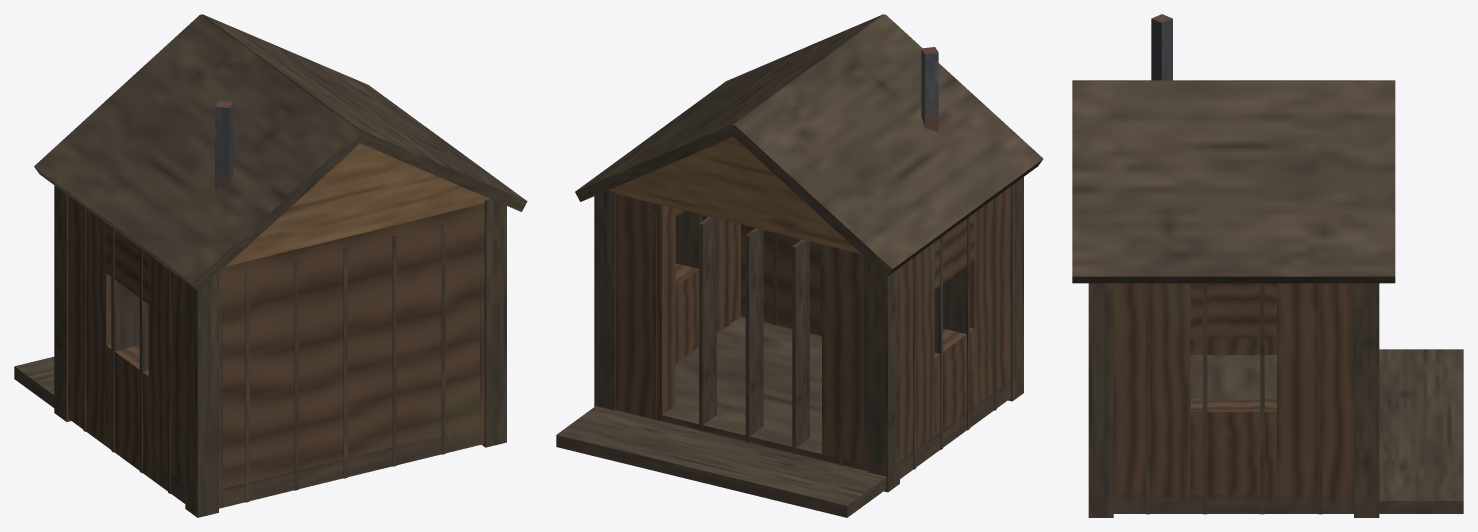
Rendered from SM_POI_SmallCabin_LOD1.fbx.
3 views of the same model, side by side, from view 1: azimuth 30°, elevation 25°; view 2: azimuth 150°, elevation 25°; view 3: azimuth 270°, elevation 25° (orthographic). The views are drawn at different scales.
Visible parts, largest first — view 1: SM_POI_SmallCabin_LOD1; view 2: SM_POI_SmallCabin_LOD1; view 3: SM_POI_SmallCabin_LOD1.
Boxes of the visible parts, x1,y1,x2,y2 form: SM_POI_SmallCabin_LOD1: (14, 14, 527, 517); SM_POI_SmallCabin_LOD1: (556, 14, 1043, 517); SM_POI_SmallCabin_LOD1: (1072, 14, 1463, 517).
Bounding box in the file's own units: 10.92 × 11.6 × 10.9.
Materials: 1 (1 with a texture image).
